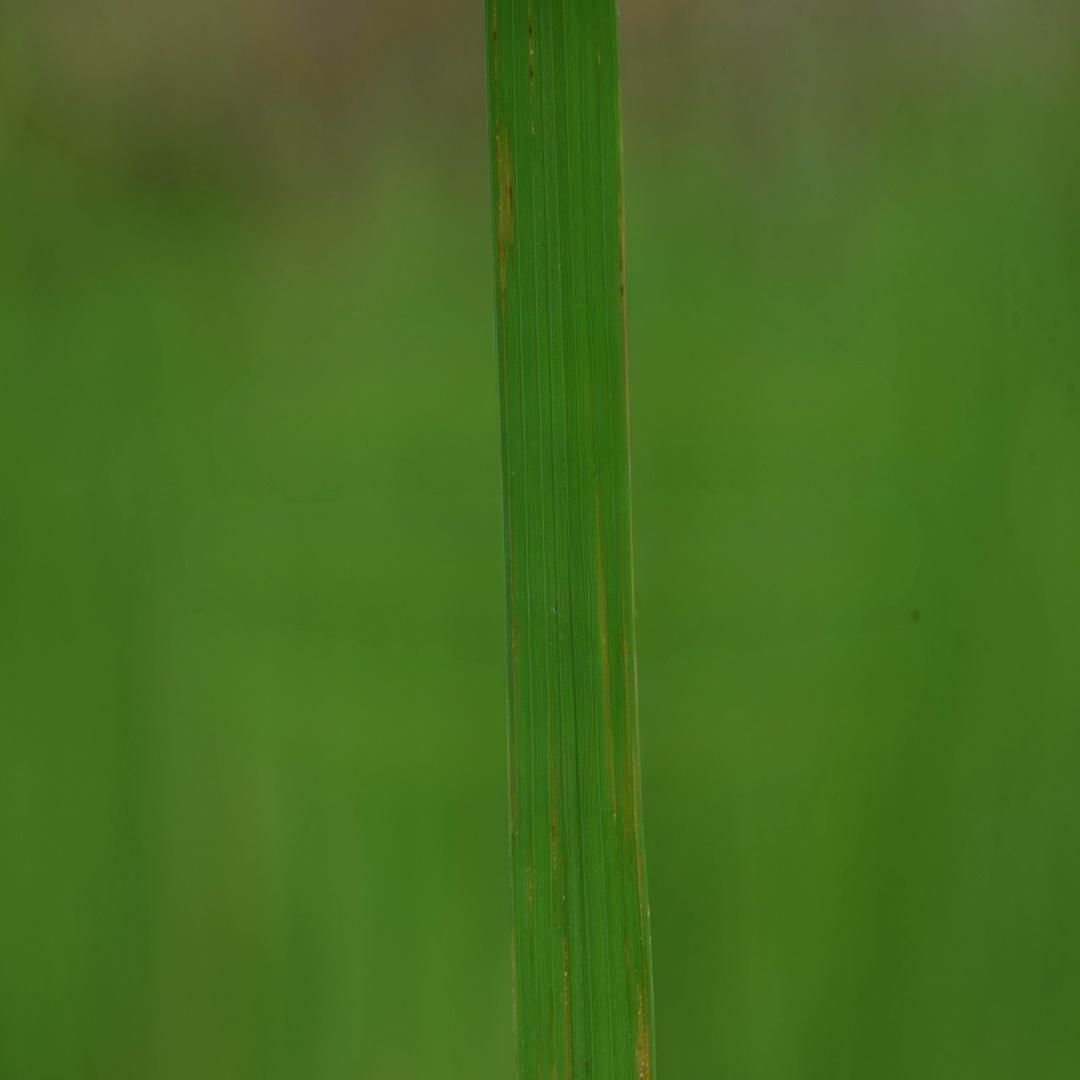BLS: (596, 494, 616, 837), (617, 75, 631, 544), (632, 735, 650, 1079), (492, 1, 505, 295), (620, 594, 631, 883), (509, 505, 520, 792), (563, 861, 573, 1079), (504, 132, 514, 287), (549, 735, 557, 885), (527, 0, 534, 88), (527, 862, 533, 910)
